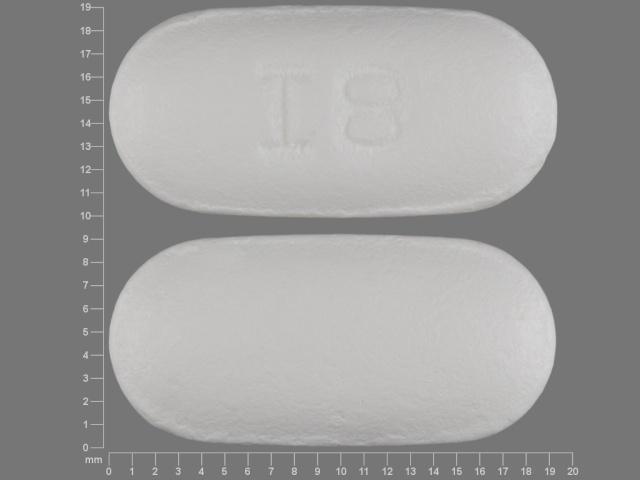8: (335, 66, 411, 156)
I: (255, 63, 321, 159)
